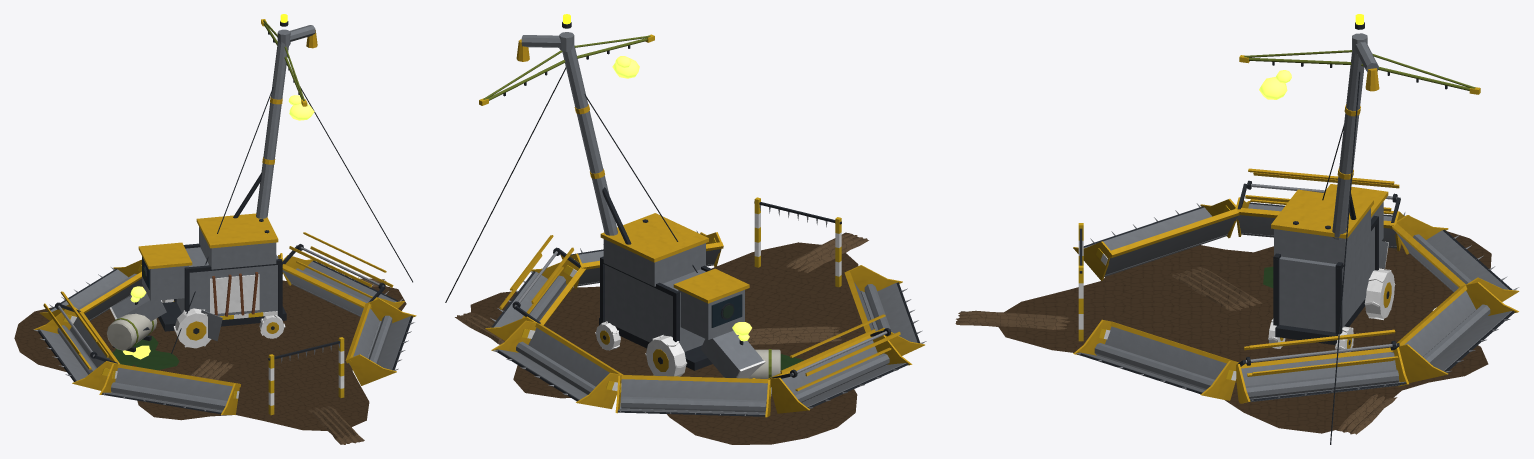
Rendered from thresher_den.glb.
The picture shows the model from 3 angles, left to right: view 1: azimuth 30°, elevation 25°; view 2: azimuth 150°, elevation 25°; view 3: azimuth 270°, elevation 25°; orthographic projection. The views are drawn at different scales.
Visible parts, largest first — view 1: thresher_den.001; view 2: thresher_den.001; view 3: thresher_den.001.
Part boxes in pixels (x1=…): thresher_den.001: x1=14, y1=14, x2=416, y2=444; thresher_den.001: x1=445, y1=14, x2=926, y2=444; thresher_den.001: x1=955, y1=14, x2=1519, y2=444.
Size of what is drawn, in the model's own units: 27.77 by 20.57 by 29.1.
26 materials, 23 textured.
